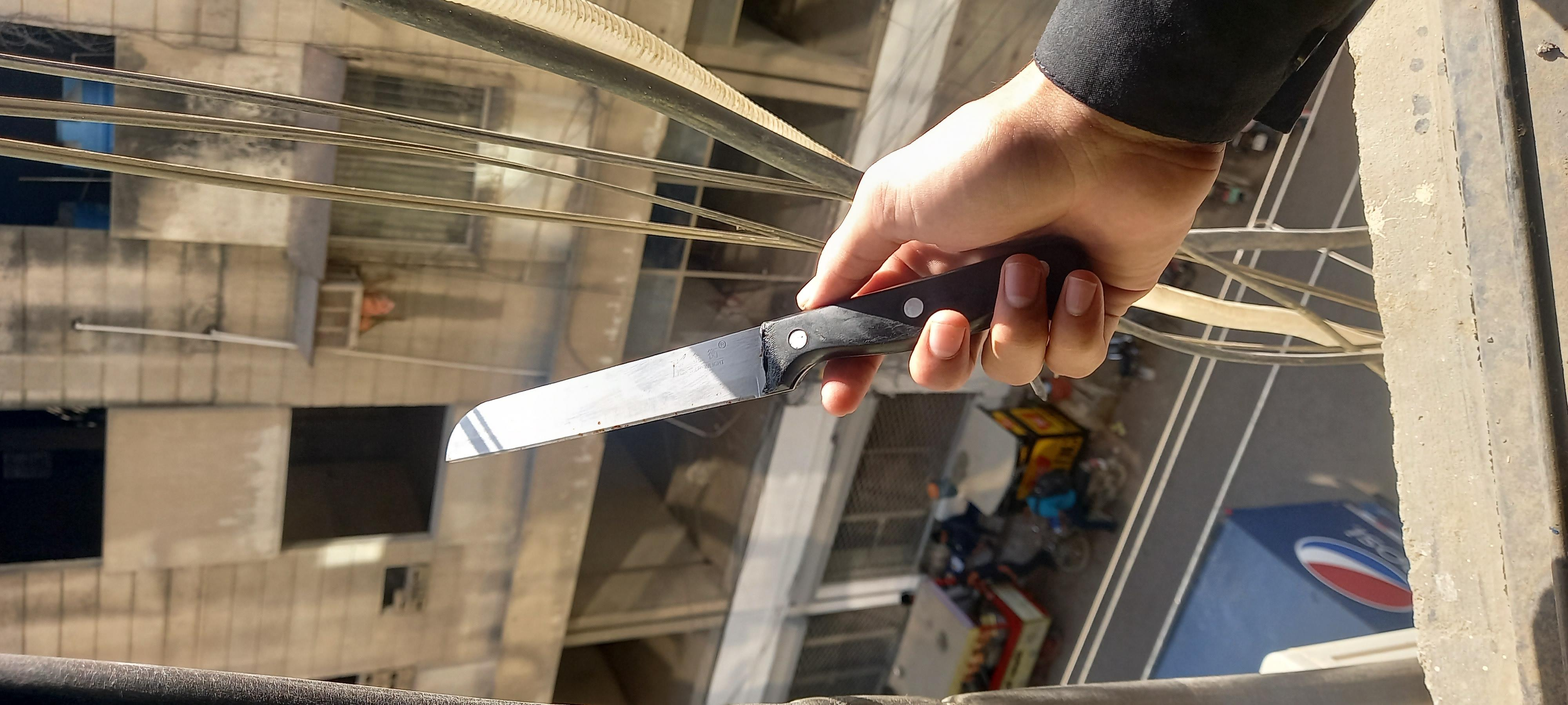knives: (496, 191, 1018, 509)
